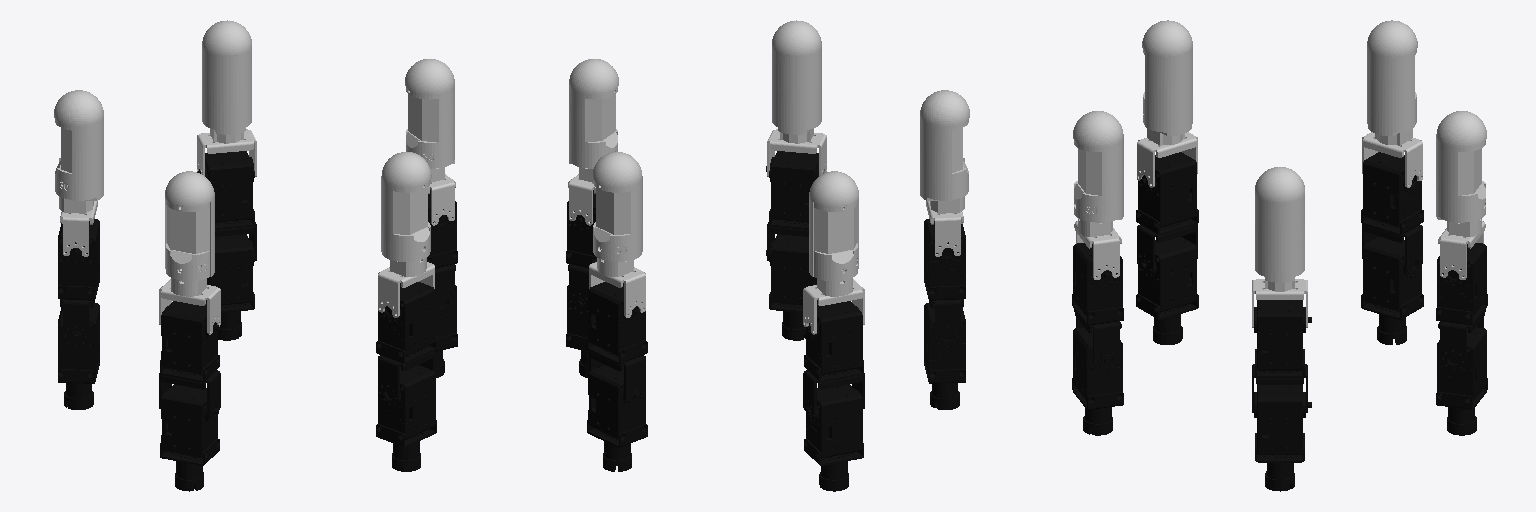
The robot description file, URDF, robot "hand":
<?xml version="1.0" encoding="utf-8"?>

<robot name="hand">

  <material name="black">
    <color rgba="0 0 0 1"/>
  </material>
  <material name="gray">
    <color rgba="0.1 0.1 0.1 1"/>
  </material>
  <material name="lightgray">
    <color rgba="0.8 0.8 0.8 1"/>
  </material>

  <link name="base_link">
    <origin rpy="0.0 0.0 0.0" xyz="0.0 0.0 0.0"/>
  </link>

  <!-- Finger 1 -->
  <link name="finger1_proximal">
    <visual>
      <origin rpy="0 0 0" xyz="0 0 0" />
      <geometry>
        <mesh filename="package://hand/urdf/meshes/visual/proximal.dae"/>
      </geometry>
      <material name="gray"/>
    </visual>
    <collision>
      <origin rpy="0 0 0" xyz="0 0 0" />
      <geometry>
        <mesh filename="package://hand/urdf/meshes/collision/proximal.obj"/>
      </geometry>
    </collision>
    <inertial>
      <mass value="0.100"/>
    </inertial>
  </link>
  <link name="finger1_middle">
    <visual>
      <origin rpy="0 0 0" xyz="0 0 0" />
      <geometry>
        <mesh filename="package://hand/urdf/meshes/visual/middle.dae"/>
      </geometry>
      <material name="gray"/>
    </visual>
    <collision>
      <origin rpy="0 0 0" xyz="0 0 0" />
      <geometry>
        <mesh filename="package://hand/urdf/meshes/collision/middle.obj"/>
      </geometry>
    </collision>
    <inertial>
      <mass value="0.100"/>
    </inertial>
  </link>
  <link name="finger1_distal">
    <visual>
      <origin rpy="0 3.14159265359 0" xyz="0 0 0"/>
      <origin rpy="0 0 0" xyz="0 0 0" />
      <geometry>
        <mesh filename="package://hand/urdf/meshes/visual/distal.dae"/>
      </geometry>
      <material name="lightgray"/>
    </visual>
    <collision>
      <origin rpy="0 3.14159265359 0" xyz="0 0 0"/>
      <origin rpy="0 0 0" xyz="0 0 0" />
      <geometry>
        <mesh filename="package://hand/urdf/meshes/collision/distal.obj"/>
      </geometry>
    </collision>
    <inertial>
      <mass value="0.100"/>
    </inertial>
  </link>
  <link name="finger1_distal_tip">
  </link>
  <joint name="finger1_proximal_joint" type="revolute">
    <parent link="base_link"/>
    <child link="finger1_proximal"/>
    <origin rpy="1.57079633 0 1.57079633" xyz="0.14142136 0.0 0.041"/>
    <axis xyz="0 1 0"/>
    <limit effort="4" velocity="1.0" lower="-1.0" upper="1.0"/>
  </joint>
  <joint name="finger1_middle_joint" type="revolute">
    <parent link="finger1_proximal"/>
    <child link="finger1_middle"/>
    <origin rpy="0 0 0" xyz="0.0 0.0655 0.0"/>
    <axis xyz="-1 0 0"/>
    <limit effort="4" velocity="1.0" lower="0.0" upper="1.0"/>
  </joint>
  <joint name="finger1_distal_joint" type="revolute">
    <parent link="finger1_middle"/>
    <child link="finger1_distal"/>
    <origin rpy="0 0 0" xyz="0.0 0.069 0.0"/>
    <axis xyz="-1 0 0"/>
    <limit effort="4" velocity="1.0" lower="0.0" upper="1.0"/>
  </joint>
  <joint name="finger1_distal_tip_joint" type="fixed">
    <parent link="finger1_distal"/>
    <child link="finger1_distal_tip"/>
    <origin rpy="-1.57079633 1.57079633 0" xyz="0.0 0.1035 0.0"/>
  </joint>

  <!-- Finger 2 -->
  <link name="finger2_proximal">
    <visual>
      <origin rpy="0 0 0" xyz="0 0 0" />
      <geometry>
        <mesh filename="package://hand/urdf/meshes/visual/proximal.dae"/>
      </geometry>
      <material name="gray"/>
    </visual>
    <collision>
      <origin rpy="0 0 0" xyz="0 0 0" />
      <geometry>
        <mesh filename="package://hand/urdf/meshes/collision/proximal.obj"/>
      </geometry>
    </collision>
    <inertial>
      <mass value="0.100"/>
    </inertial>
  </link>
  <link name="finger2_middle">
    <visual>
      <origin rpy="0 0 0" xyz="0 0 0" />
      <geometry>
        <mesh filename="package://hand/urdf/meshes/visual/middle.dae"/>
      </geometry>
      <material name="gray"/>
    </visual>
    <collision>
      <origin rpy="0 0 0" xyz="0 0 0" />
      <geometry>
        <mesh filename="package://hand/urdf/meshes/collision/middle.obj"/>
      </geometry>
    </collision>
    <inertial>
      <mass value="0.100"/>
    </inertial>
  </link>
  <link name="finger2_distal">
    <visual>
      <origin rpy="0 3.14159265359 0" xyz="0 0 0" />
      <geometry>
        <mesh filename="package://hand/urdf/meshes/visual/distal.dae"/>
      </geometry>
      <material name="lightgray"/>
    </visual>
    <collision>
      <origin rpy="0 3.14159265359 0" xyz="0 0 0" />
      <geometry>
        <mesh filename="package://hand/urdf/meshes/collision/distal.obj"/>
      </geometry>
    </collision>
    <inertial>
      <mass value="0.100"/>
    </inertial>
  </link>
  <link name="finger2_distal_tip">
  </link>
  <joint name="finger2_proximal_joint" type="revolute">
    <parent link="base_link"/>
    <child link="finger2_proximal"/>
    <origin rpy="1.57079633 0 2.82743338823" xyz="0.043701602 0.134499702 0.041"/>
    <axis xyz="0 1 0"/>
    <limit effort="4" velocity="1.0" lower="-1.0" upper="1.0"/>
  </joint>
  <joint name="finger2_middle_joint" type="revolute">
    <parent link="finger2_proximal"/>
    <child link="finger2_middle"/>
    <origin rpy="0 0 0" xyz="0.0 0.0655 0.0"/>
    <axis xyz="-1 0 0"/>
    <limit effort="4" velocity="1.0" lower="0.0" upper="1.0"/>
  </joint>
  <joint name="finger2_distal_joint" type="revolute">
    <parent link="finger2_middle"/>
    <child link="finger2_distal"/>
    <origin rpy="0 0 0" xyz="0.0 0.069 0.0"/>
    <axis xyz="-1 0 0"/>
    <limit effort="4" velocity="1.0" lower="0.0" upper="1.0"/>
  </joint>
  <joint name="finger2_distal_tip_joint" type="fixed">
    <parent link="finger2_distal"/>
    <child link="finger2_distal_tip"/>
    <origin rpy="-1.57079633 1.57079633 0" xyz="0.0 0.1035 0.0"/>
  </joint>


  <!-- Finger 3 -->
  <link name="finger3_proximal">
     <visual>
      <origin rpy="0 0 0" xyz="0 0 0" />
      <geometry>
        <mesh filename="package://hand/urdf/meshes/visual/proximal.dae"/>
      </geometry>
      <material name="gray"/>
    </visual>
    <collision>
      <origin rpy="0 0 0" xyz="0 0 0" />
      <geometry>
        <mesh filename="package://hand/urdf/meshes/collision/proximal.obj"/>
      </geometry>
    </collision>
     <inertial>
      <mass value="0.100"/>
    </inertial>
  </link>
  <link name="finger3_middle">
    <visual>
      <origin rpy="0 0 0" xyz="0 0 0" />
      <geometry>
        <mesh filename="package://hand/urdf/meshes/visual/middle.dae"/>
      </geometry>
      <material name="gray"/>
    </visual>
    <collision>
      <origin rpy="0 0 0" xyz="0 0 0" />
      <geometry>
        <mesh filename="package://hand/urdf/meshes/collision/middle.obj"/>
      </geometry>
    </collision>
    <inertial>
      <mass value="0.100"/>
    </inertial>
  </link>
  <link name="finger3_distal">
    <visual>
      <origin rpy="0 3.14159265359 0" xyz="0 0 0" />
      <geometry>
        <mesh filename="package://hand/urdf/meshes/visual/distal.dae"/>
      </geometry>
      <material name="lightgray"/>
    </visual>
    <collision>
      <origin rpy="0 3.14159265359 0" xyz="0 0 0" />
      <geometry>
        <mesh filename="package://hand/urdf/meshes/collision/distal.obj"/>
      </geometry>
    </collision>
    <inertial>
      <mass value="0.100"/>
    </inertial>
  </link>
  <link name="finger3_distal_tip">
  </link>
  <joint name="finger3_proximal_joint" type="revolute">
    <parent link="base_link"/>
    <child link="finger3_proximal"/>
    <origin rpy="1.57079633 0 -2.19911485751" xyz="-0.114412281  0.083125388  0.041"/>
    <axis xyz="0 1 0"/>
    <limit effort="4" velocity="1.0" lower="-1.0" upper="1.0"/>
  </joint>
  <joint name="finger3_middle_joint" type="revolute">
    <parent link="finger3_proximal"/>
    <child link="finger3_middle"/>
    <origin rpy="0 0 0" xyz="0.0 0.0655 0.0"/>
    <axis xyz="-1 0 0"/>
    <limit effort="4" velocity="1.0" lower="0.0" upper="1.0"/>
  </joint>
  <joint name="finger3_distal_joint" type="revolute">
    <parent link="finger3_middle"/>
    <child link="finger3_distal"/>
    <origin rpy="0 0 0" xyz="0.0 0.069 0.0"/>
    <axis xyz="-1 0 0"/>
    <limit effort="4" velocity="1.0" lower="0.0" upper="1.0"/>
  </joint>
  <joint name="finger3_distal_tip_joint" type="fixed">
    <parent link="finger3_distal"/>
    <child link="finger3_distal_tip"/>
    <origin rpy="-1.57079633 1.57079633 0" xyz="0.0 0.1035 0.0"/>
  </joint>

  <!-- Finger 4 -->
  <link name="finger4_proximal">
     <visual>
      <origin rpy="0 0 0" xyz="0 0 0" />
      <geometry>
        <mesh filename="package://hand/urdf/meshes/visual/proximal.dae"/>
      </geometry>
      <material name="gray"/>
    </visual>
    <collision>
      <origin rpy="0 0 0" xyz="0 0 0" />
      <geometry>
        <mesh filename="package://hand/urdf/meshes/collision/proximal.obj"/>
      </geometry>
    </collision>
    <inertial>
      <mass value="0.100"/>
    </inertial>
  </link>
  <link name="finger4_middle">
   <visual>
      <origin rpy="0 0 0" xyz="0 0 0" />
      <geometry>
        <mesh filename="package://hand/urdf/meshes/visual/middle.dae"/>
      </geometry>
      <material name="gray"/>
    </visual>
    <collision>
      <origin rpy="0 0 0" xyz="0 0 0" />
      <geometry>
        <mesh filename="package://hand/urdf/meshes/collision/middle.obj"/>
      </geometry>
    </collision>
    <inertial>
      <mass value="0.100"/>
    </inertial>
  </link>
  <link name="finger4_distal">
    <visual>
      <origin rpy="0 3.14159265359 0" xyz="0 0 0" />
      <geometry>
        <mesh filename="package://hand/urdf/meshes/visual/distal.dae"/>
      </geometry>
      <material name="lightgray"/>
    </visual>
    <collision>
      <origin rpy="0 3.14159265359 0" xyz="0 0 0" />
      <geometry>
        <mesh filename="package://hand/urdf/meshes/collision/distal.obj"/>
      </geometry>
    </collision>
    <inertial>
      <mass value="0.100"/>
    </inertial>
  </link>
  <link name="finger4_distal_tip">
  </link>
  <joint name="finger4_proximal_joint" type="revolute">
    <parent link="base_link"/>
    <child link="finger4_proximal"/>
    <origin rpy="1.57079633 0 -0.94247779607" xyz="-0.114412281 -0.083125388  0.041"/>
    <axis xyz="0 1 0"/>
    <limit effort="4" velocity="1.0" lower="-1.0" upper="1.0"/>
  </joint>
  <joint name="finger4_middle_joint" type="revolute">
    <parent link="finger4_proximal"/>
    <child link="finger4_middle"/>
    <origin rpy="0 0 0" xyz="0.0 0.0655 0.0"/>
    <axis xyz="-1 0 0"/>
    <limit effort="4" velocity="1.0" lower="0.0" upper="1.0"/>
  </joint>
  <joint name="finger4_distal_joint" type="revolute">
    <parent link="finger4_middle"/>
    <child link="finger4_distal"/>
    <origin rpy="0 0 0" xyz="0.0 0.069 0.0"/>
    <axis xyz="-1 0 0"/>
    <limit effort="4" velocity="1.0" lower="0.0" upper="1.0"/>
  </joint>
  <joint name="finger4_distal_tip_joint" type="fixed">
    <parent link="finger4_distal"/>
    <child link="finger4_distal_tip"/>
    <origin rpy="-1.57079633 1.57079633 0" xyz="0.0 0.1035 0.0"/>
  </joint>


  <!-- Finger 5 -->
  <link name="finger5_proximal">
     <visual>
      <origin rpy="0 0 0" xyz="0 0 0" />
      <geometry>
        <mesh filename="package://hand/urdf/meshes/visual/proximal.dae"/>
      </geometry>
      <material name="gray"/>
    </visual>
    <collision>
      <origin rpy="0 0 0" xyz="0 0 0" />
      <geometry>
        <mesh filename="package://hand/urdf/meshes/collision/proximal.obj"/>
      </geometry>
    </collision>
    <inertial>
      <mass value="0.100"/>
    </inertial>
  </link>
  <link name="finger5_middle">
    <visual>
      <origin rpy="0 0 0" xyz="0 0 0" />
      <geometry>
        <mesh filename="package://hand/urdf/meshes/visual/middle.dae"/>
      </geometry>
      <material name="gray"/>
    </visual>
    <collision>
      <origin rpy="0 0 0" xyz="0 0 0" />
      <geometry>
        <mesh filename="package://hand/urdf/meshes/collision/middle.obj"/>
      </geometry>
    </collision>
    <inertial>
      <mass value="0.100"/>
    </inertial>
  </link>
  <link name="finger5_distal">
    <visual>
      <origin rpy="0 3.14159265359 0" xyz="0 0 0"/>
      <geometry>
        <mesh filename="package://hand/urdf/meshes/visual/distal.dae"/>
      </geometry>
      <material name="lightgray"/>
    </visual>
    <collision>
      <origin rpy="0 3.14159265359 0" xyz="0 0 0" />
      <geometry>
        <mesh filename="package://hand/urdf/meshes/collision/distal.obj"/>
      </geometry>
    </collision>
    <inertial>
      <mass value="0.100"/>
    </inertial>
  </link>
  <link name="finger5_distal_tip">
  </link>
  <joint name="finger5_proximal_joint" type="revolute">
    <parent link="base_link"/>
    <child link="finger5_proximal"/>
    <origin rpy="1.57079633 0 0.31415926535" xyz="0.043701602 -0.134499702  0.041"/>
    <axis xyz="0 1 0"/>
    <limit effort="4" velocity="1.0" lower="-1.0" upper="1.0"/>
  </joint>
  <joint name="finger5_middle_joint" type="revolute">
    <parent link="finger5_proximal"/>
    <child link="finger5_middle"/>
    <origin rpy="0 0 0" xyz="0.0 0.0655 0.0"/>
    <axis xyz="-1 0 0"/>
    <limit effort="4" velocity="1.0" lower="0.0" upper="1.0"/>
  </joint>
  <joint name="finger5_distal_joint" type="revolute">
    <parent link="finger5_middle"/>
    <child link="finger5_distal"/>
    <origin rpy="0 0 0" xyz="0.0 0.069 0.0"/>
    <axis xyz="-1 0 0"/>
    <limit effort="4" velocity="1.0" lower="0.0" upper="1.0"/>
  </joint>
  <joint name="finger5_distal_tip_joint" type="fixed">
    <parent link="finger5_distal"/>
    <child link="finger5_distal_tip"/>
    <origin rpy="-1.57079633 1.57079633 0" xyz="0.0 0.1035 0.0"/>
  </joint>
</robot>

--- Facts derived from the render (not from the file) ---
Views: 3 orthographic renders of the robot side by side, from view 1: azimuth 30°, elevation 25°; view 2: azimuth 150°, elevation 25°; view 3: azimuth 270°, elevation 25°.
Robot: hand — 21 links, 20 joints (15 revolute, 5 fixed); root link base_link; default pose: every joint at zero.
Visible links, largest first — view 1: finger5_distal, finger4_distal, finger2_distal, finger3_distal, finger1_distal, finger4_middle, finger5_middle, finger4_proximal, finger5_proximal, finger2_middle, finger2_proximal, finger3_middle (+3 smaller); view 2: finger3_distal, finger2_distal, finger5_distal, finger4_distal, finger1_distal, finger3_middle, finger2_middle, finger3_proximal, finger2_proximal, finger5_middle, finger5_proximal, finger4_middle (+3 smaller); view 3: finger3_distal, finger4_distal, finger2_distal, finger5_distal, finger1_distal, finger3_middle, finger4_middle, finger4_proximal, finger3_proximal, finger1_proximal, finger1_middle, finger2_middle (+3 smaller).
Boxes of the visible links, x1,y1,x2,y2 form: finger5_distal: [378, 152, 434, 317]; finger4_distal: [159, 171, 220, 334]; finger2_distal: [197, 20, 256, 176]; finger3_distal: [54, 90, 103, 256]; finger1_distal: [405, 59, 455, 225]; finger4_middle: [159, 301, 220, 417]; finger5_middle: [376, 282, 436, 400]; finger4_proximal: [160, 384, 219, 491]; finger5_proximal: [376, 365, 436, 471]; finger2_middle: [197, 151, 256, 260]; finger2_proximal: [206, 234, 254, 340]; finger3_middle: [58, 219, 99, 339]; finger3_distal: [803, 171, 864, 334]; finger2_distal: [589, 152, 645, 317]; finger5_distal: [767, 20, 826, 176]; finger4_distal: [920, 90, 969, 256]; finger1_distal: [568, 59, 618, 225]; finger3_middle: [803, 301, 864, 417]; finger2_middle: [587, 282, 647, 401]; finger3_proximal: [804, 384, 863, 491]; finger2_proximal: [587, 365, 647, 471]; finger5_middle: [766, 151, 818, 260]; finger5_proximal: [766, 234, 817, 340]; finger4_middle: [924, 219, 965, 339]; finger3_distal: [1362, 20, 1422, 187]; finger4_distal: [1137, 20, 1197, 187]; finger2_distal: [1436, 111, 1486, 279]; finger5_distal: [1073, 111, 1123, 279]; finger1_distal: [1252, 167, 1307, 327]; finger3_middle: [1361, 152, 1423, 272]; finger4_middle: [1136, 152, 1198, 272]; finger4_proximal: [1136, 237, 1198, 344]; finger3_proximal: [1361, 237, 1423, 344]; finger1_proximal: [1254, 385, 1311, 491]; finger1_middle: [1252, 300, 1311, 412]; finger2_middle: [1436, 243, 1487, 364].
Bounding box of the posed robot: 0.2969 × 0.3071 × 0.2578 m (x, y, z).
Meshes: 3 distinct files referenced, 15 mesh visuals loaded (3 Collada DAE).
